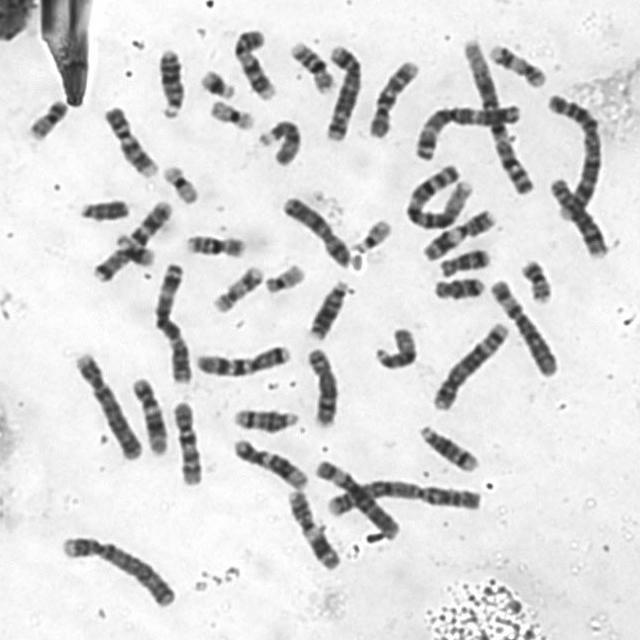A1: (459, 34, 537, 198), (401, 162, 475, 231)
A2: (542, 89, 604, 221), (321, 475, 482, 518)
A3: (410, 101, 523, 161), (149, 259, 194, 383)
B4: (57, 530, 178, 610), (70, 348, 144, 462)
B5: (429, 318, 512, 412), (321, 42, 363, 142)
C10: (364, 56, 421, 140), (169, 397, 204, 489)
C11: (284, 487, 342, 572), (418, 205, 497, 263)
C12: (229, 433, 309, 491), (127, 372, 170, 457)
C6: (312, 456, 401, 540), (487, 277, 561, 378)
C7: (89, 196, 173, 284), (191, 340, 292, 379)
C8: (545, 175, 610, 260), (302, 344, 340, 428)
C9: (101, 102, 159, 180), (230, 26, 277, 101)
D13: (305, 276, 350, 342), (154, 44, 186, 120)
D14: (415, 421, 480, 474), (229, 404, 300, 434)
D15: (255, 115, 303, 166), (369, 324, 419, 372)
E16: (287, 36, 336, 95), (181, 229, 248, 260)
E17: (486, 39, 548, 90), (210, 262, 266, 314)
E18: (436, 245, 492, 278), (428, 274, 486, 302)
F19: (161, 161, 201, 205), (206, 96, 256, 131)
F20: (24, 96, 71, 142), (517, 255, 554, 305)
G21: (196, 66, 237, 100)
G22: (350, 216, 395, 255), (260, 260, 307, 294)
X: (279, 192, 352, 268)
Y: (75, 197, 130, 222)
